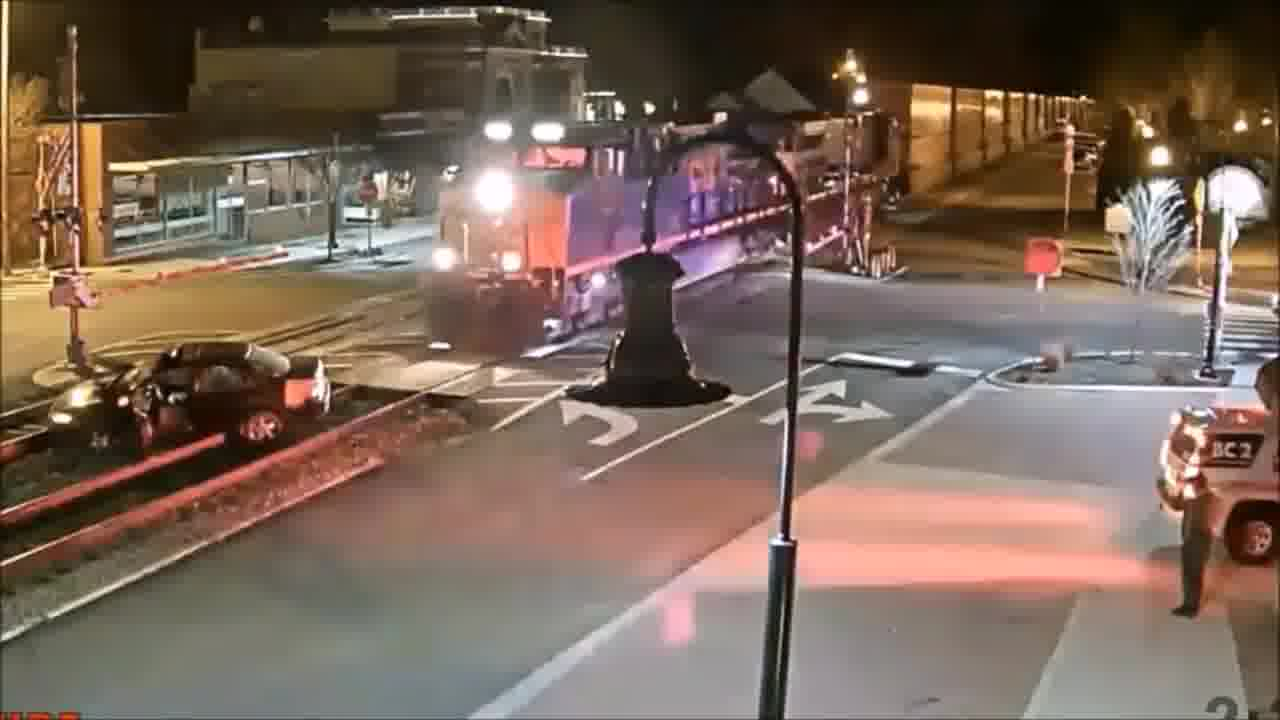crossing railway track: (33, 331, 344, 486)
